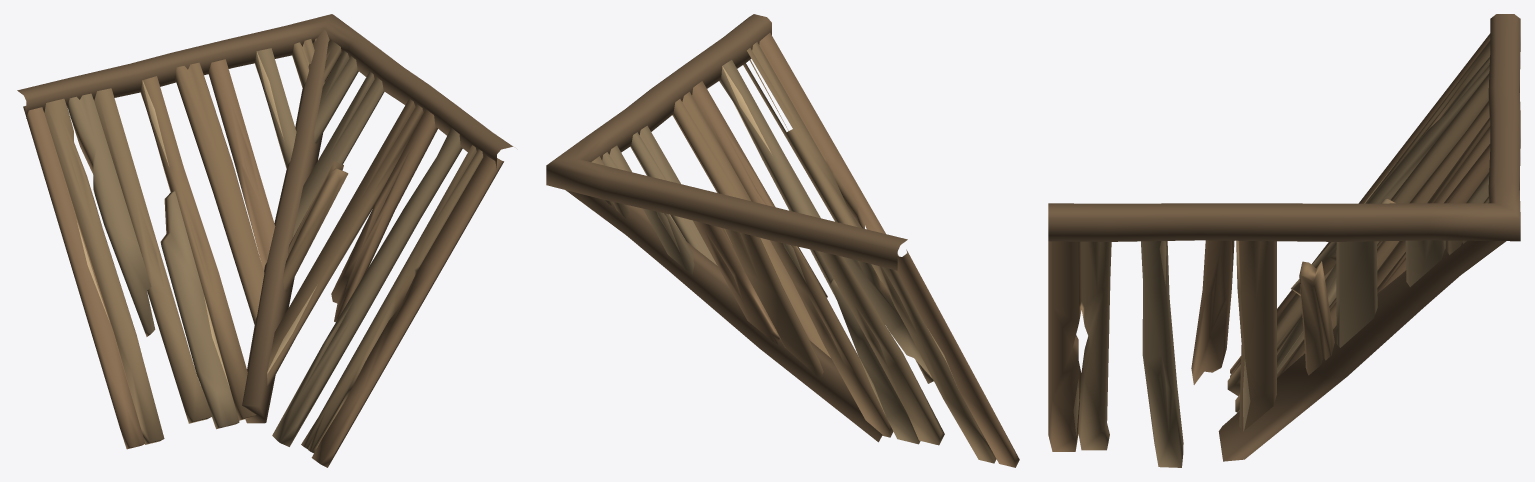
The model's file is rpgpp_av_roof_02_6x5x3_corner_01.gltf.
The picture shows the model from 3 angles, left to right: view 1: azimuth 30°, elevation 25°; view 2: azimuth 150°, elevation 25°; view 3: azimuth 270°, elevation 25°; orthographic projection. The views are drawn at different scales.
Parts seen in each view (by area): view 1: rpgpp_av_roof_02_6x5x3_corner_01; view 2: rpgpp_av_roof_02_6x5x3_corner_01; view 3: rpgpp_av_roof_02_6x5x3_corner_01.
Part boxes in pixels (box(x1,y1,x2,y2)): rpgpp_av_roof_02_6x5x3_corner_01: box(17, 14, 513, 467); rpgpp_av_roof_02_6x5x3_corner_01: box(546, 14, 1019, 467); rpgpp_av_roof_02_6x5x3_corner_01: box(1048, 14, 1520, 467).
Size of the model in its own units: 0.062 by 0.0535 by 0.062.
1 material, 1 textured.
